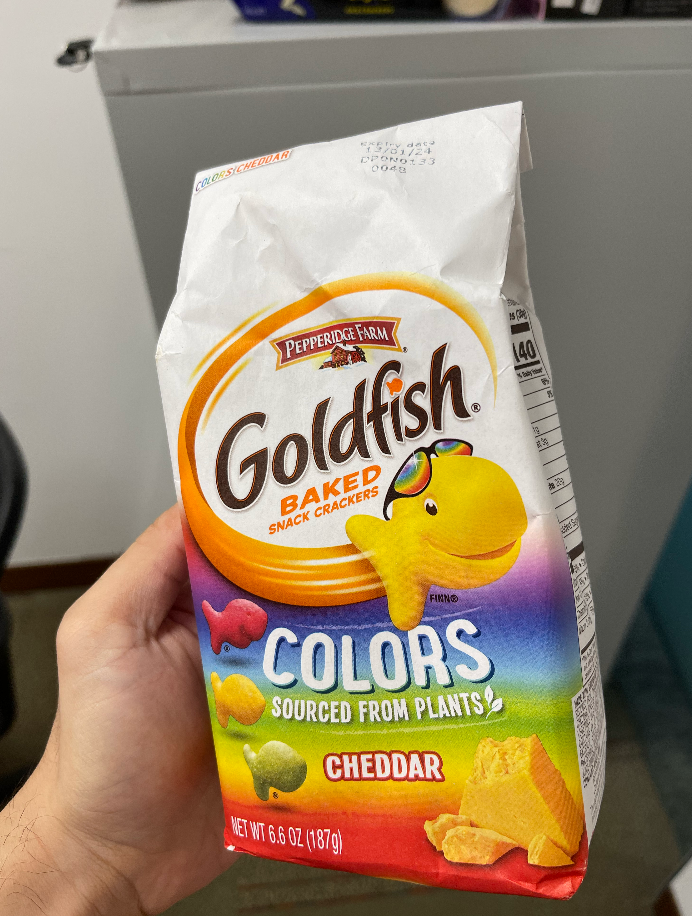crackers_100g-199g: (195, 254, 560, 871)
